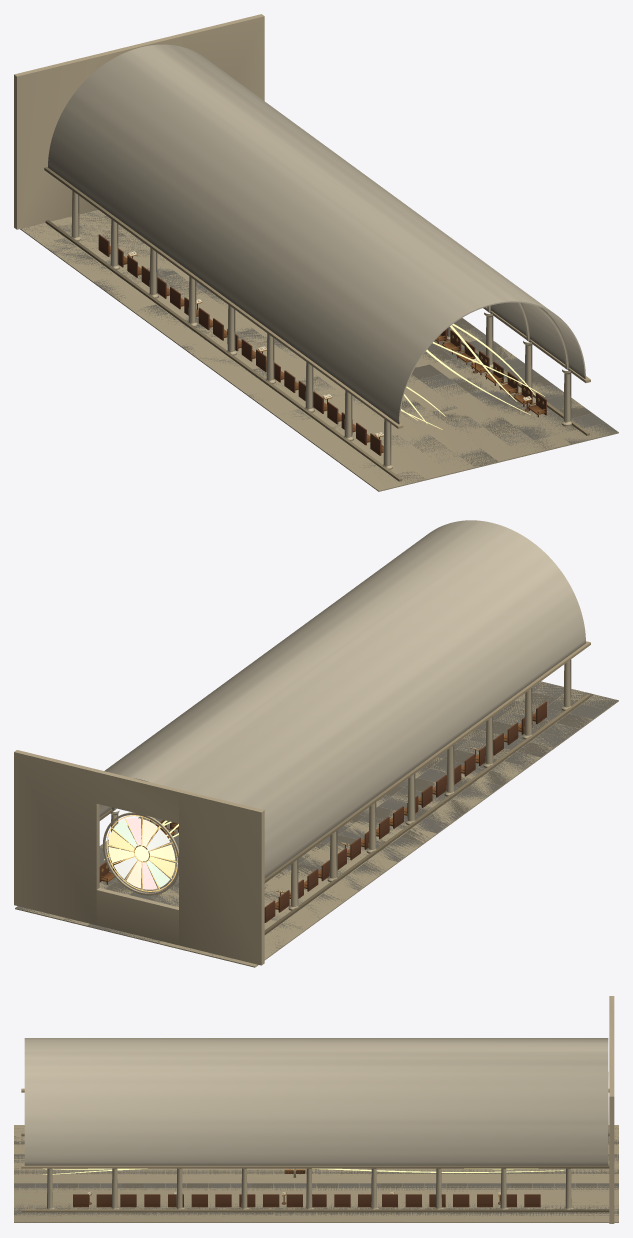
The model's file is mundo-coro-juego.glb.
3 views of the same model, one above another, from view 1: azimuth 30°, elevation 25°; view 2: azimuth 150°, elevation 25°; view 3: azimuth 270°, elevation 25° (orthographic). The views are drawn at different scales.
Parts seen in each view (by area): view 1: Nave y bóveda, Sillería tallada, Voces y tracería; view 2: Nave y bóveda, Sillería tallada, Gran rosetón, Voces y tracería; view 3: Nave y bóveda, Sillería tallada, Voces y tracería.
Part boxes in pixels (x1,y1,x2,y2): Nave y bóveda: (14,14,618,491); Sillería tallada: (98,234,546,455); Voces y tracería: (401,323,544,429); Nave y bóveda: (14,520,618,967); Sillería tallada: (99,701,546,922); Gran rosetón: (108,818,175,889); Voces y tracería: (104,815,178,891); Nave y bóveda: (14,996,618,1223); Sillería tallada: (73,1192,540,1207); Voces y tracería: (43,1168,564,1174).
Size of the model in its own units: 66 by 39.26 by 168.
